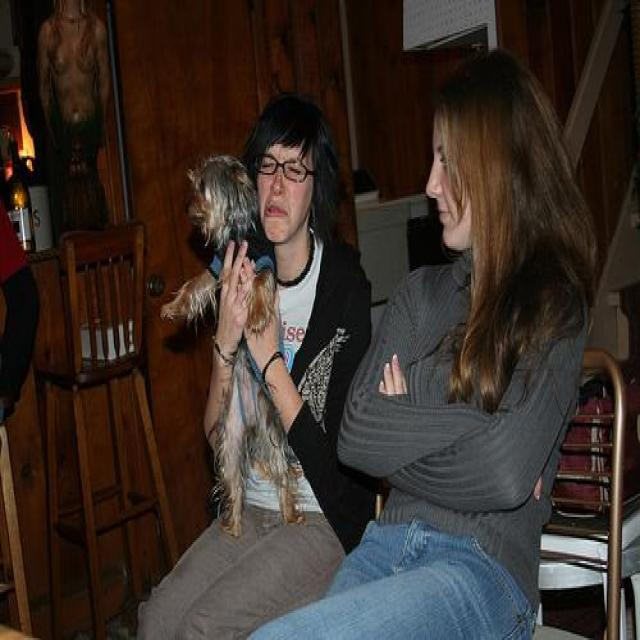People: (315, 40, 604, 640), (222, 112, 354, 486), (37, 0, 140, 206)
chair: (48, 183, 162, 640), (524, 348, 624, 640)
dog: (170, 128, 311, 545)
